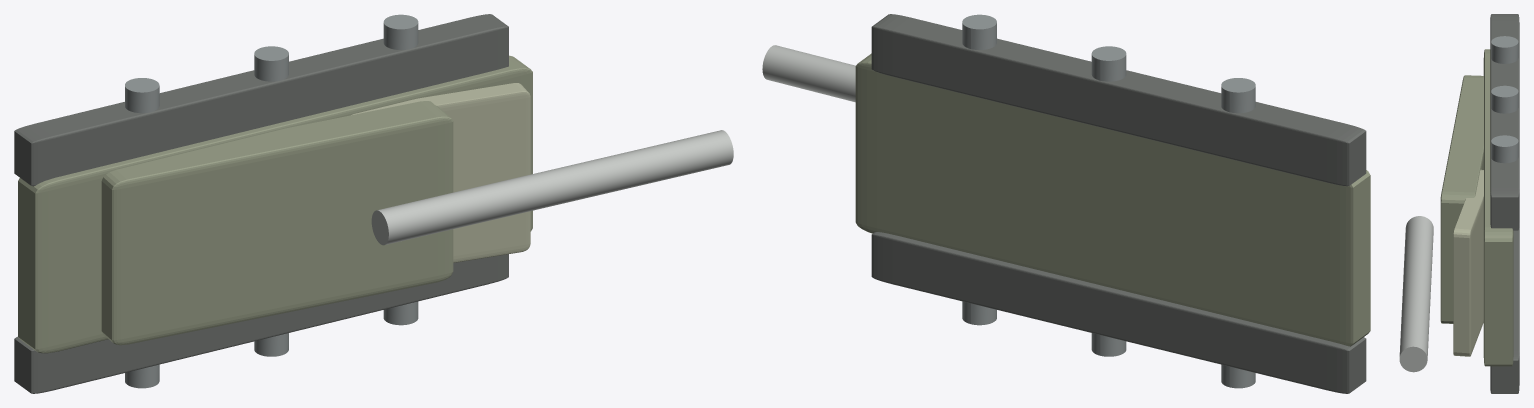
File: v-u14-vanguard-tank-destroyer-lod2.glb
3 views of the same model, side by side, from view 1: azimuth 30°, elevation 25°; view 2: azimuth 150°, elevation 25°; view 3: azimuth 270°, elevation 25° (orthographic). The views are drawn at different scales.
Parts seen in each view (by area): view 1: upper_hull, chassis_track_1, chassis_lower, tank_hunter_barrel_0, chassis_track_-1, chassis_glacis, chassis_roadwheel_1_5, chassis_roadwheel_1_3, chassis_roadwheel_1_1, chassis_roadwheel_-1_5, chassis_roadwheel_-1_1, chassis_roadwheel_-1_3; view 2: chassis_lower, chassis_track_1, chassis_track_-1, tank_hunter_barrel_0, chassis_roadwheel_1_3, chassis_roadwheel_1_1, chassis_roadwheel_1_5, chassis_roadwheel_-1_3, chassis_roadwheel_-1_1, chassis_roadwheel_-1_5; view 3: upper_hull, chassis_lower, chassis_glacis, chassis_track_1, tank_hunter_barrel_0, chassis_track_-1, chassis_roadwheel_1_3, chassis_roadwheel_1_1, chassis_roadwheel_1_5.
Part boxes in pixels (x1,y1,x2,y2): upper_hull: (101,101,453,345); chassis_track_1: (14,14,508,186); chassis_lower: (18,55,532,353); tank_hunter_barrel_0: (371,130,733,245); chassis_track_-1: (14,254,508,393); chassis_glacis: (351,83,530,262); chassis_roadwheel_1_5: (383,14,418,49); chassis_roadwheel_1_3: (254,46,288,81); chassis_roadwheel_1_1: (125,78,159,113); chassis_roadwheel_-1_5: (383,301,418,325); chassis_roadwheel_-1_1: (125,364,159,388); chassis_roadwheel_-1_3: (254,333,288,356); chassis_lower: (855,53,1370,346); chassis_track_1: (871,14,1366,186); chassis_track_-1: (871,232,1366,393); tank_hunter_barrel_0: (762,45,855,102); chassis_roadwheel_1_3: (1091,46,1126,81); chassis_roadwheel_1_1: (1221,78,1255,113); chassis_roadwheel_1_5: (962,14,996,49); chassis_roadwheel_-1_3: (1091,333,1126,356); chassis_roadwheel_-1_1: (1221,364,1255,388); chassis_roadwheel_-1_5: (962,301,996,325); upper_hull: (1440,75,1483,323); chassis_lower: (1483,49,1513,366); chassis_glacis: (1453,169,1483,356); chassis_track_1: (1490,14,1519,230); tank_hunter_barrel_0: (1399,216,1433,372); chassis_track_-1: (1490,223,1519,393); chassis_roadwheel_1_3: (1491,85,1518,113); chassis_roadwheel_1_1: (1491,36,1518,63); chassis_roadwheel_1_5: (1491,135,1518,163).
Size of what is drawn, in the model's own units: 9.08 by 3.98 by 1.86.
